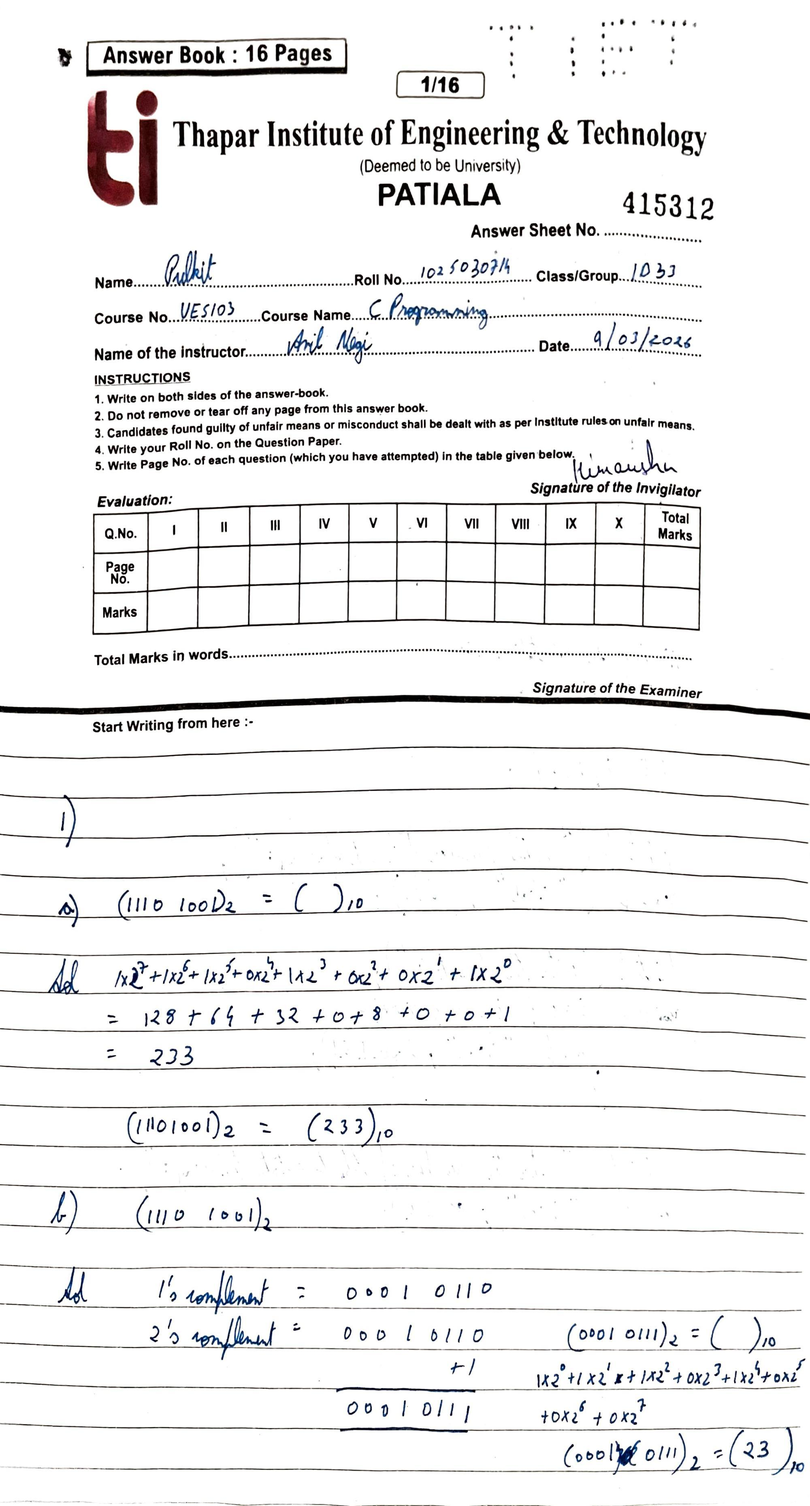cuttings: (612, 1439, 641, 1476)
